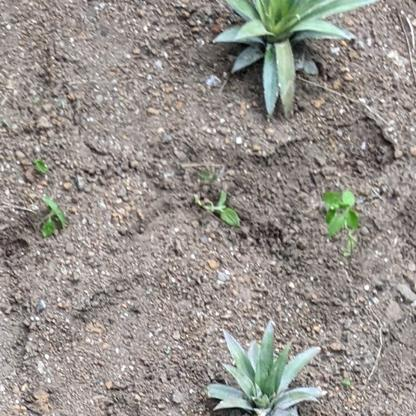pineapple: (208, 1, 379, 119), (204, 322, 321, 416)
weed: (28, 153, 65, 240), (316, 187, 360, 244), (192, 185, 244, 231)
